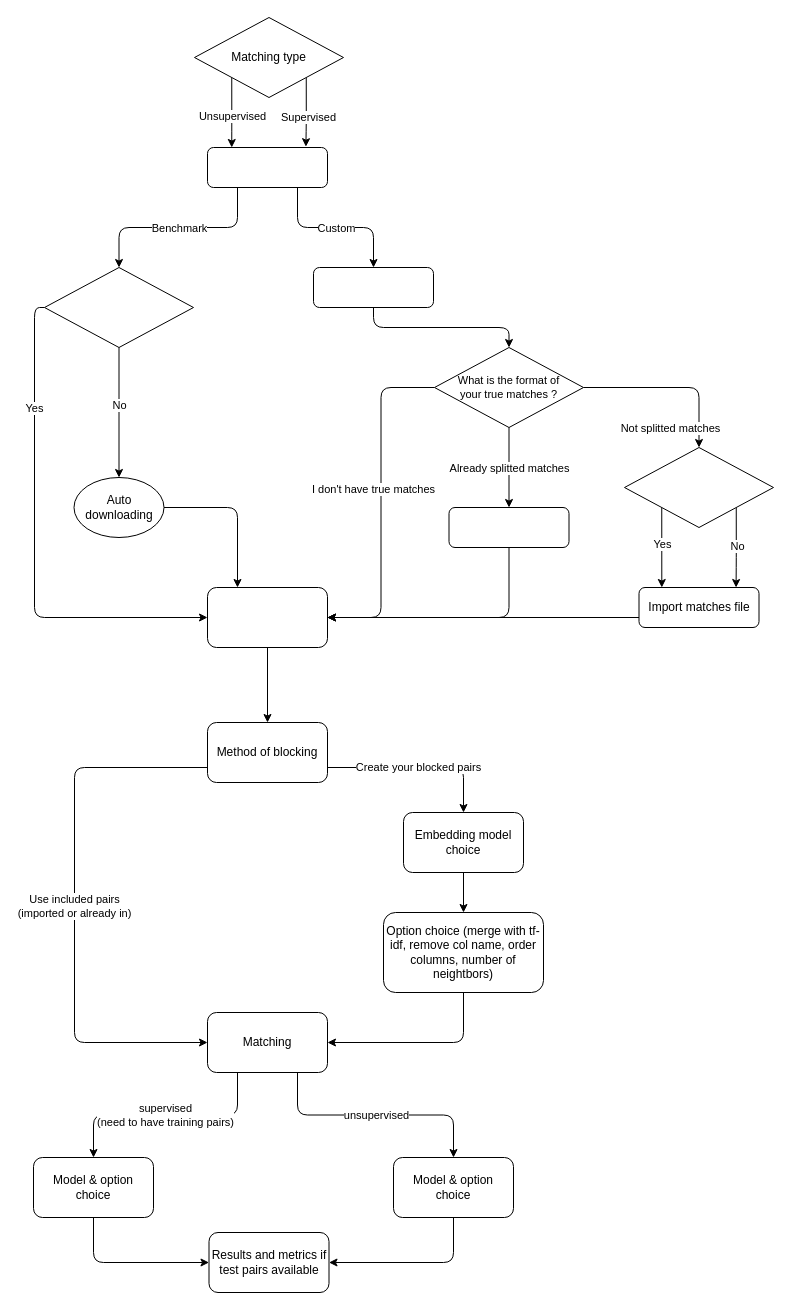
Image size: 791x1310. Some labels were removed from this diagram. Here are the shapes that lost their labels. From the top down, the box of each, then its label:
(206, 146, 328, 188): Dataset choice
(44, 266, 194, 348): Is it downloaded ?
(312, 266, 434, 308): Importation of the tables A & B
(624, 446, 774, 528): Do you want to be in testing mode ?
(448, 506, 569, 548): Importation of train, val & test files
(206, 586, 328, 648): Blocking
